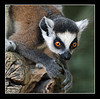cat: (2, 0, 91, 94)
